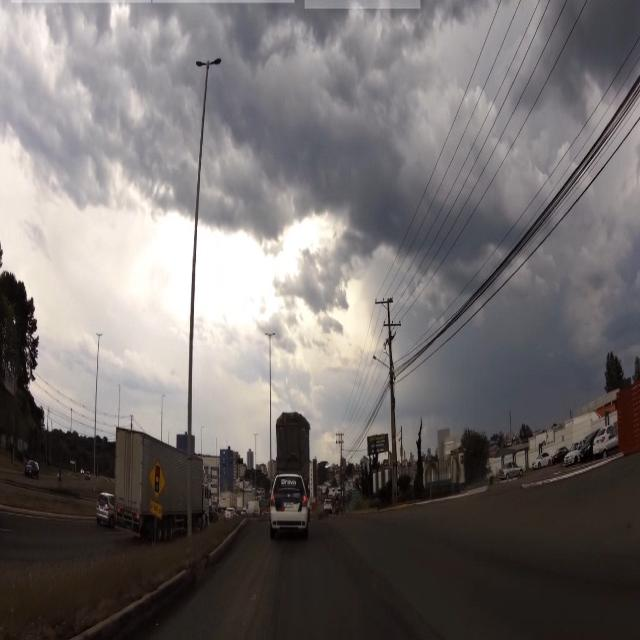A-14: (150, 458, 167, 501)
